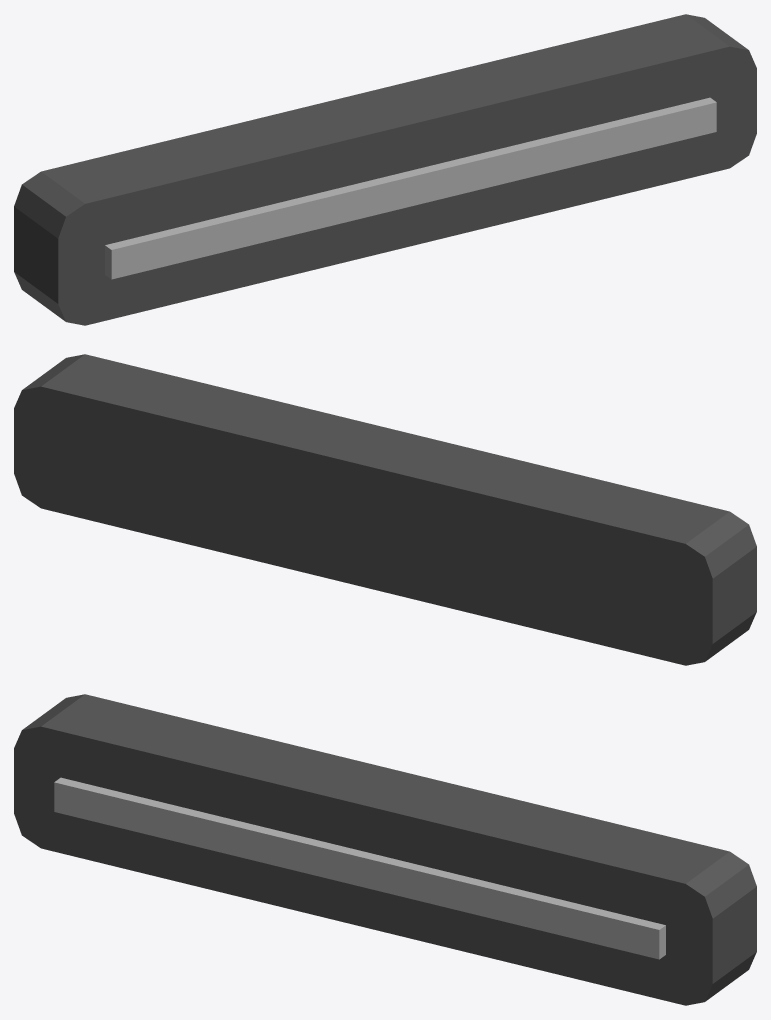
File: Hanger_03.fbx
3 views of the same model, one above another, from view 1: azimuth 30°, elevation 25°; view 2: azimuth 150°, elevation 25°; view 3: azimuth 330°, elevation 25° (orthographic).
Parts seen in each view (by area): view 1: Hanger_03; view 2: Hanger_03; view 3: Hanger_03.
Part boxes in pixels (bbox=[...]): Hanger_03: bbox=[14, 14, 756, 325]; Hanger_03: bbox=[14, 354, 756, 665]; Hanger_03: bbox=[14, 694, 756, 1005].
Size of the model in its own units: 30 by 5 by 3.77.
